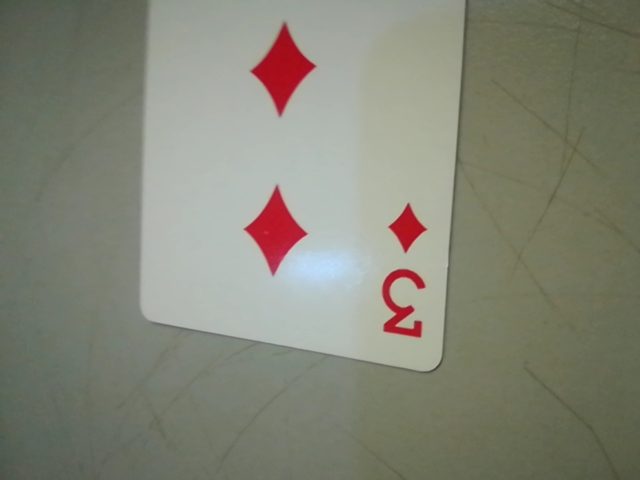fk 3: (367, 196, 438, 353)
